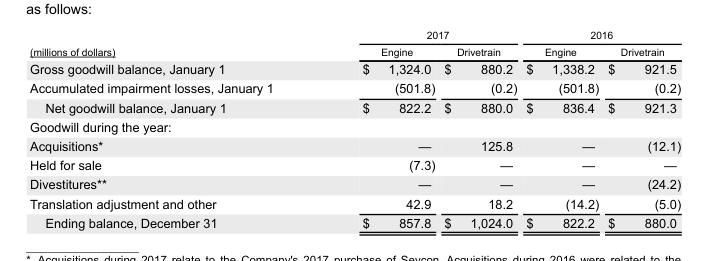table: (29, 28, 680, 229)
table column: (29, 28, 317, 229), (317, 28, 439, 229), (520, 28, 602, 229), (439, 28, 520, 229), (602, 28, 680, 229)
table column header: (29, 28, 680, 59)
table projected row header: (29, 116, 680, 136)
table row: (29, 116, 680, 136), (29, 59, 680, 78), (29, 78, 680, 97), (29, 97, 680, 116), (29, 136, 680, 155), (29, 155, 680, 174), (29, 174, 680, 193), (29, 193, 680, 212), (29, 42, 680, 59), (29, 212, 680, 229), (29, 28, 680, 42)
table spanning cell: (29, 28, 317, 59), (317, 28, 520, 42), (520, 28, 680, 42)
